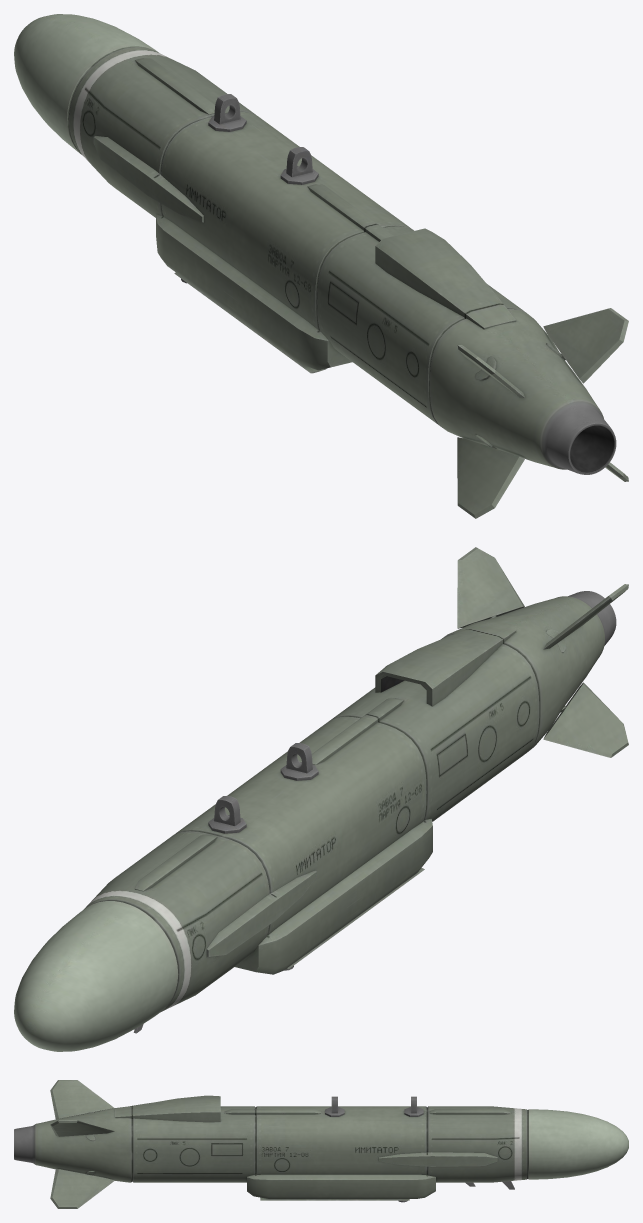
Rendered from decoy_e.glb.
3 views of the same model, one above another, from view 1: azimuth 30°, elevation 25°; view 2: azimuth 150°, elevation 25°; view 3: azimuth 270°, elevation 25° (orthographic). The views are drawn at different scales.
Visible parts, largest first — view 1: DCE_body, DCE_fixed, rudder_2, rudder_0; view 2: DCE_body, DCE_fixed, rudder_2, rudder_0, rudder_1; view 3: DCE_body, DCE_fixed, rudder_3, rudder_1, rudder_0, wing1.
Boxes of the visible parts, x1=… form: DCE_body: x1=14, y1=14, x2=616, y2=474; DCE_fixed: x1=93, y1=58, x2=516, y2=370; rudder_2: x1=457, y1=437, x2=524, y2=518; rudder_0: x1=543, y1=308, x2=628, y2=383; DCE_body: x1=14, y1=591, x2=616, y2=1051; DCE_fixed: x1=133, y1=622, x2=516, y2=1033; rudder_2: x1=543, y1=682, x2=628, y2=757; rudder_0: x1=457, y1=547, x2=524, y2=628; rudder_1: x1=543, y1=584, x2=628, y2=649; DCE_body: x1=14, y1=1106, x2=628, y2=1182; DCE_fixed: x1=115, y1=1095, x2=514, y2=1198; rudder_3: x1=50, y1=1169, x2=114, y2=1208; rudder_1: x1=50, y1=1080, x2=114, y2=1119; rudder_0: x1=50, y1=1120, x2=114, y2=1136; wing1: x1=260, y1=1197, x2=409, y2=1202.
Bounding box in the file's own units: 0.4434 × 0.46 × 2.8.
3 materials, 3 textured.
